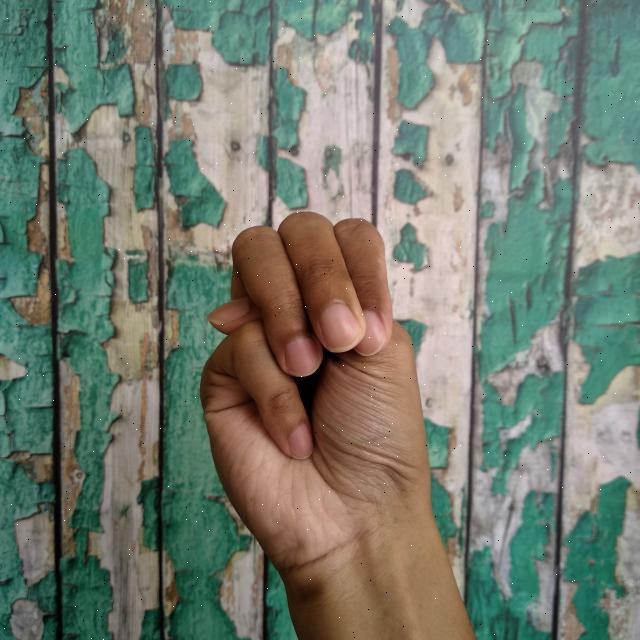M: (198, 207, 479, 640)
